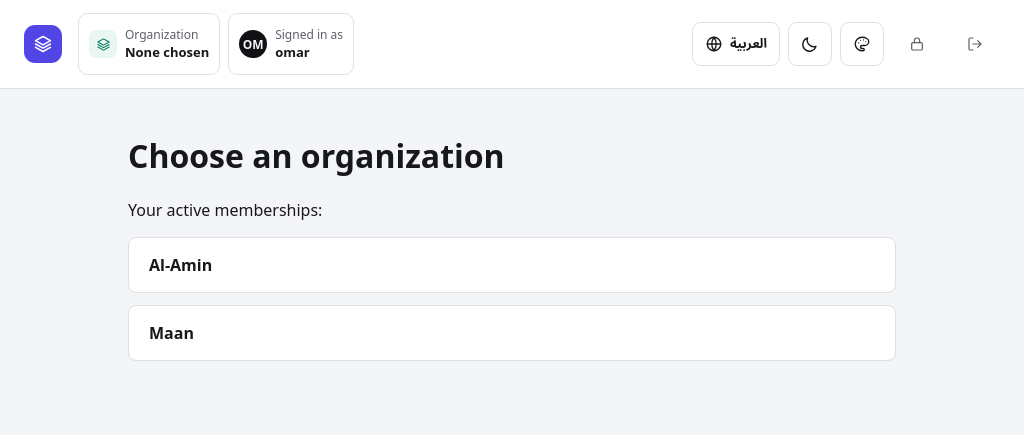
Test: the selection refuses › membership_scope_missing: an explicit message, and the screen stays
Click the button "Al-Amin".
click(181, 265)  # box [128,237,896,293]
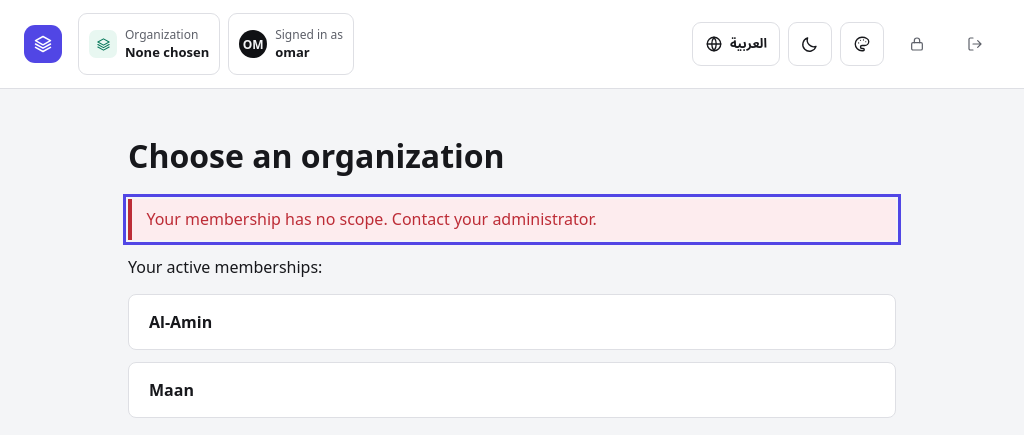
Expected: the text with test id "identity-organization" reads "None chosen", [125,43,209,61]
Expected: the message reads "Your membership has no scope. Contact your administrator.", [146,208,597,230]
